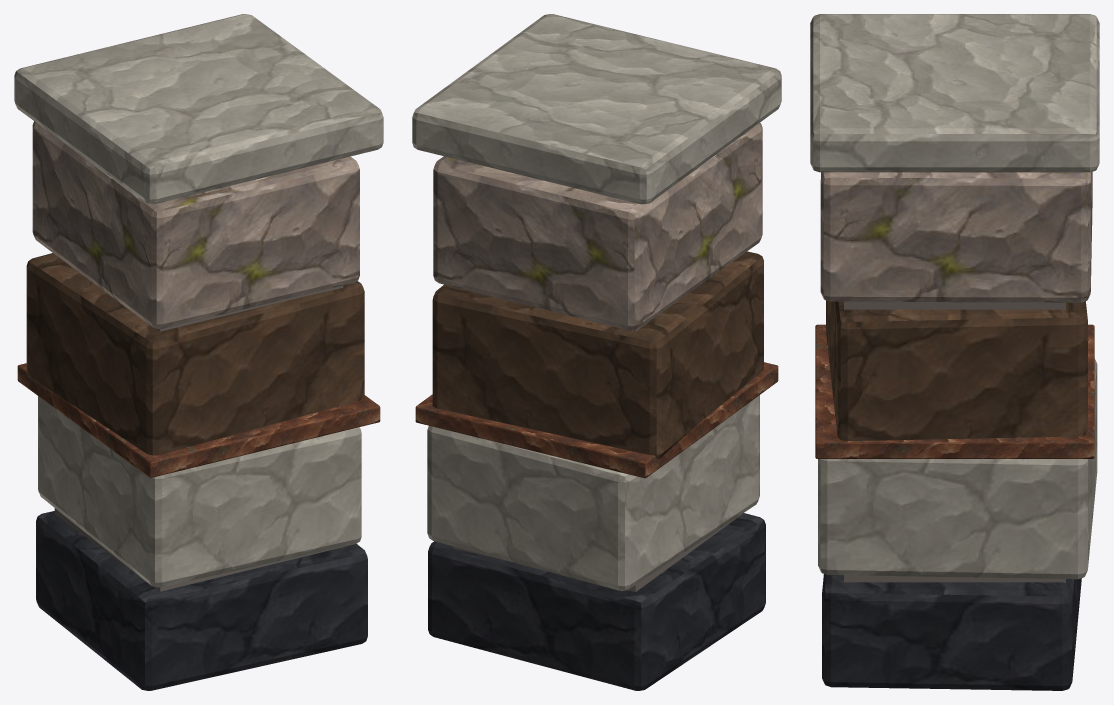
Rendered from battlement_corner__cut_stone.glb.
The picture shows the model from 3 angles, left to right: view 1: azimuth 30°, elevation 25°; view 2: azimuth 150°, elevation 25°; view 3: azimuth 270°, elevation 25°; orthographic projection. The views are drawn at different scales.
Parts seen in each view (by area): view 1: model; view 2: model; view 3: model.
Part boxes in pixels (x1,y1,x2,y2): model: (14, 14, 383, 690); model: (412, 14, 781, 690); model: (810, 14, 1099, 690).
Size of the model in its own units: 0.6 by 1.29 by 0.6.
6 materials, 5 textured.
